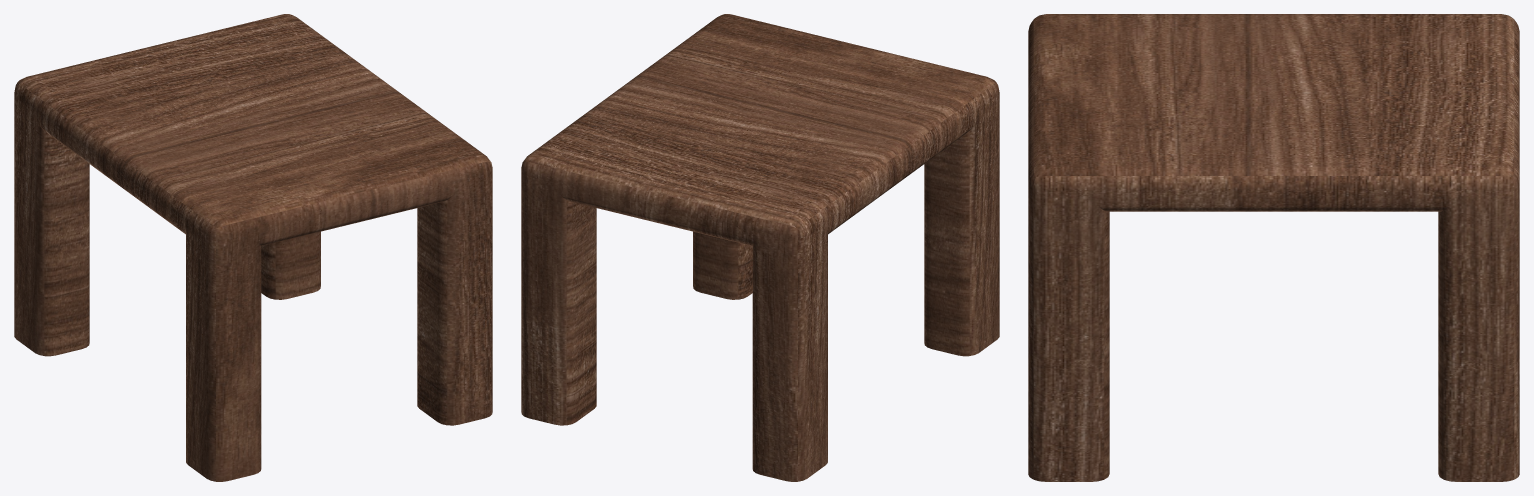
Rendered from Table.fbx.
The picture shows the model from 3 angles, left to right: view 1: azimuth 30°, elevation 25°; view 2: azimuth 150°, elevation 25°; view 3: azimuth 270°, elevation 25°; orthographic projection. The views are drawn at different scales.
Parts seen in each view (by area): view 1: Cube; view 2: Cube; view 3: Cube.
Part boxes in pixels (x1,y1,x2,y2): Cube: (14,14,492,481); Cube: (521,14,999,481); Cube: (1028,14,1519,481).
Size of the model in its own units: 159 by 138 by 200.
